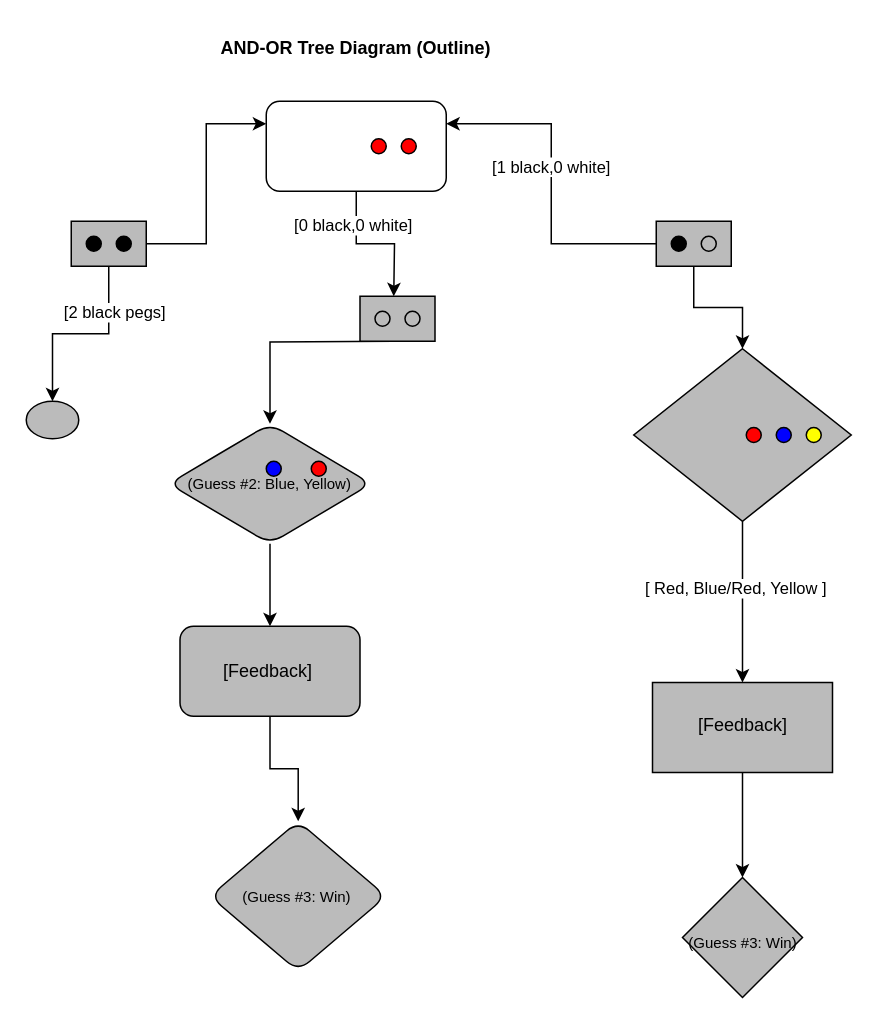
Some shapes in this 878 by 1023 pixel diagram are drawn without their labels. Each missing label, with the box of its shape:
(Guess #1: ): (265, 100, 446, 191)
(Guess #2: ): (632, 347, 851, 521)
win: (25, 400, 79, 439)
